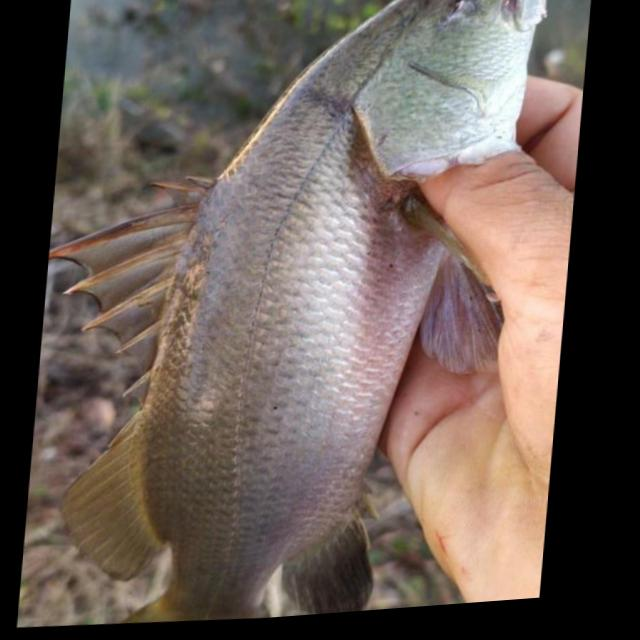Seabass: (13, 0, 547, 637)
